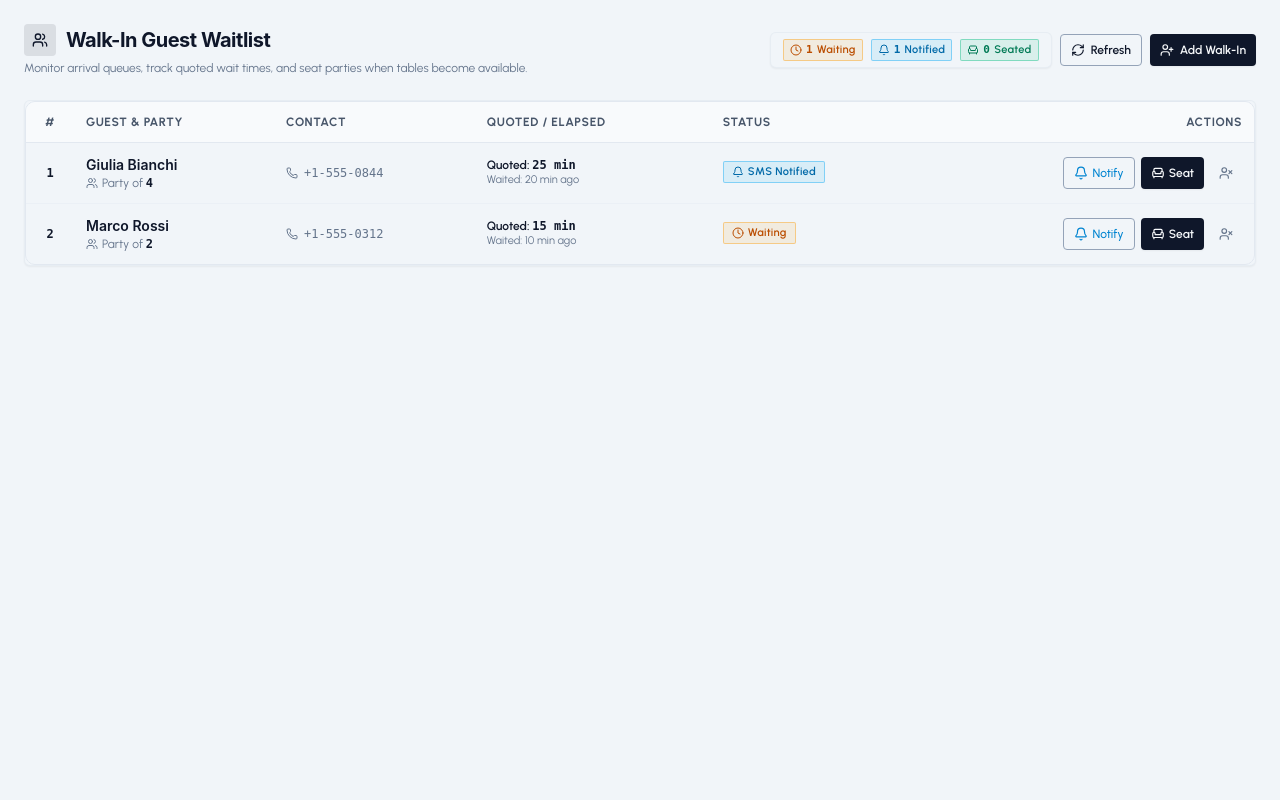
QueuePage › opens Add Walk-In dialog
The width and height of the screenshot is (1280, 800).
Click the button "Add Walk-In" at [1203, 50], box [1150, 34, 1256, 66]
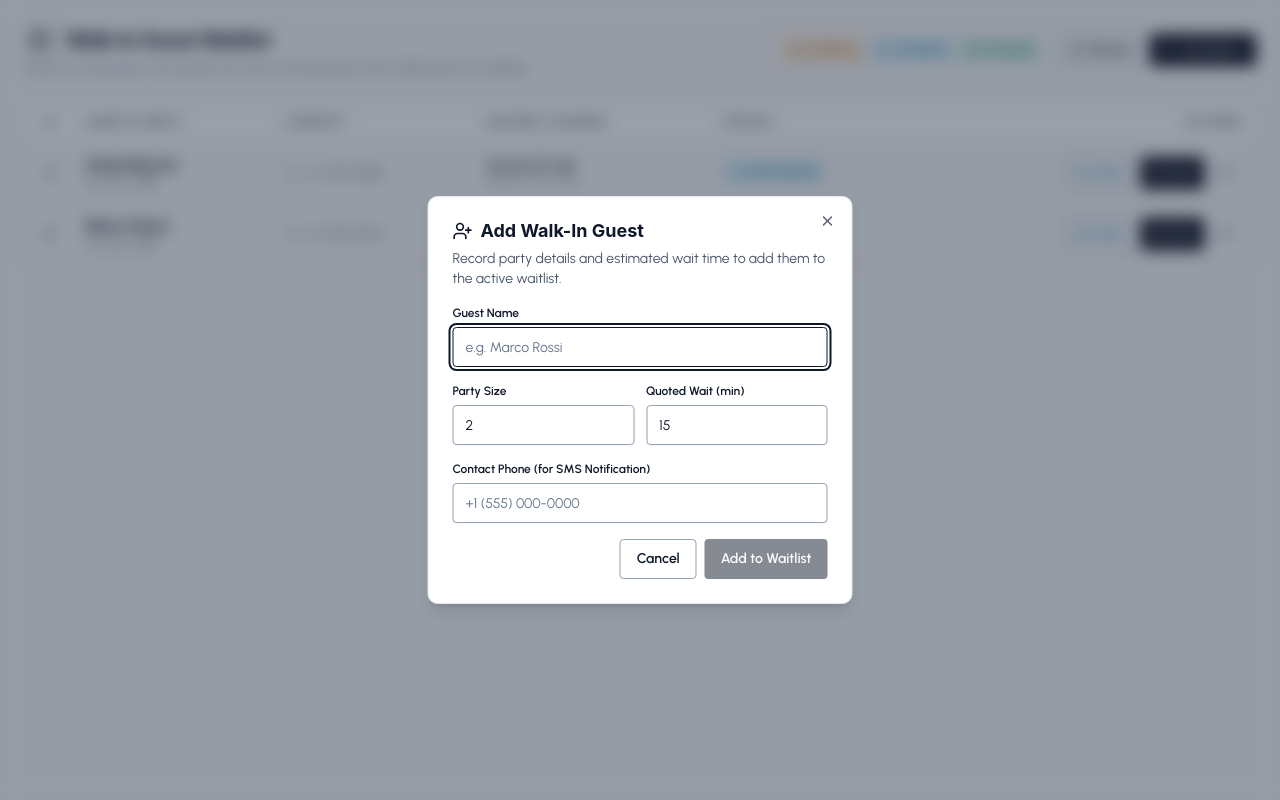
Check: the heading "Add Walk-In Guest" is shown, box [452, 220, 644, 241]
Check: the field labelled "Guest Name" is shown, box [452, 327, 828, 367]
